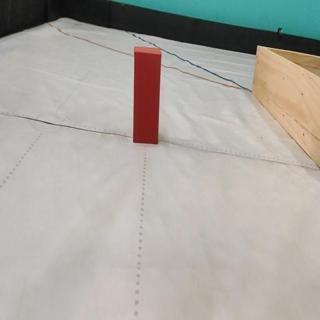redbox: (133, 45, 160, 145)
